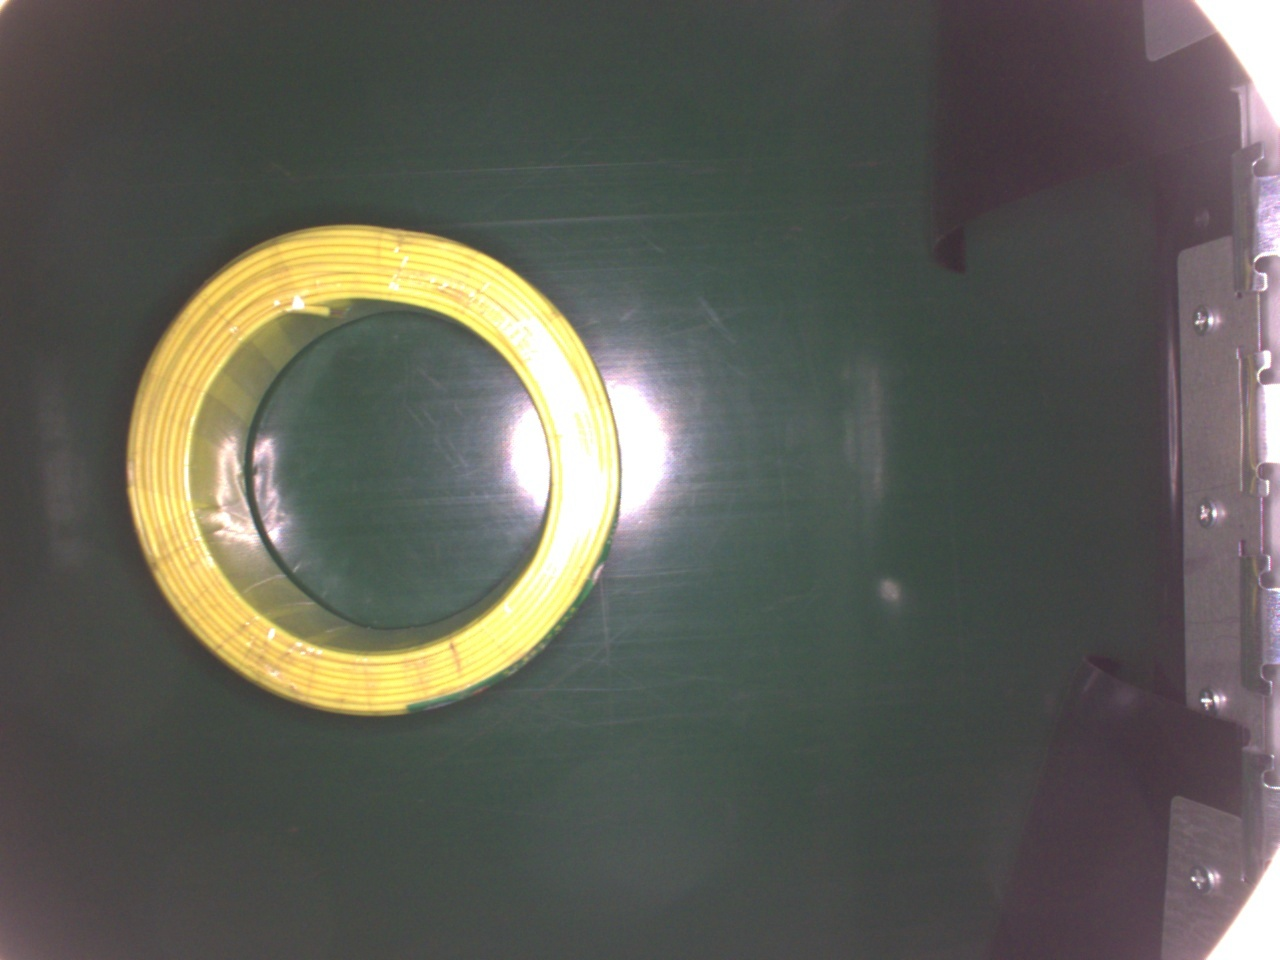yellow: (126, 218, 619, 712)
